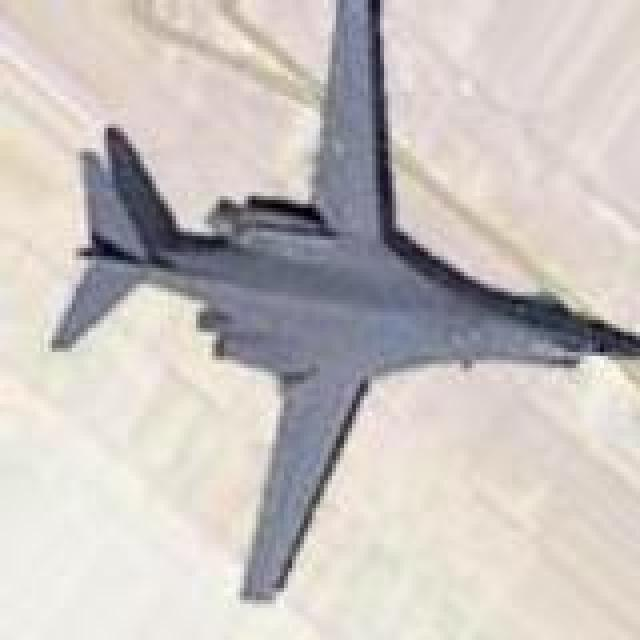B-1_TopDown: (44, 0, 636, 600)
